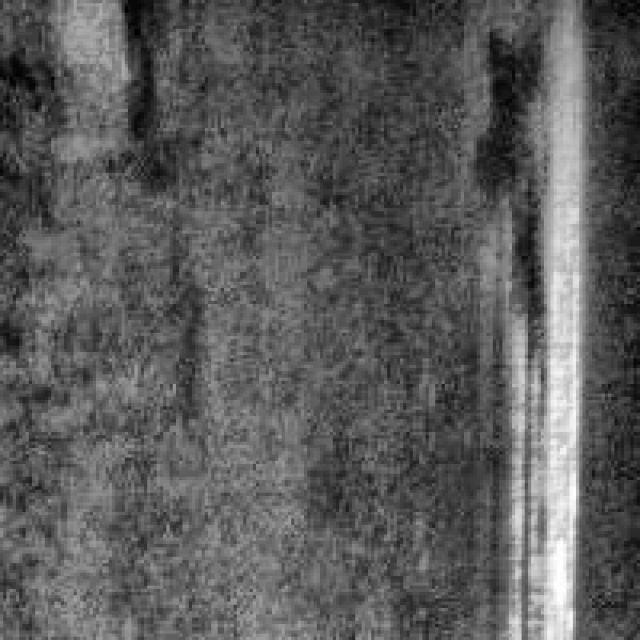Inclusion: (499, 138, 576, 630)
Patches: (111, 0, 166, 134)
